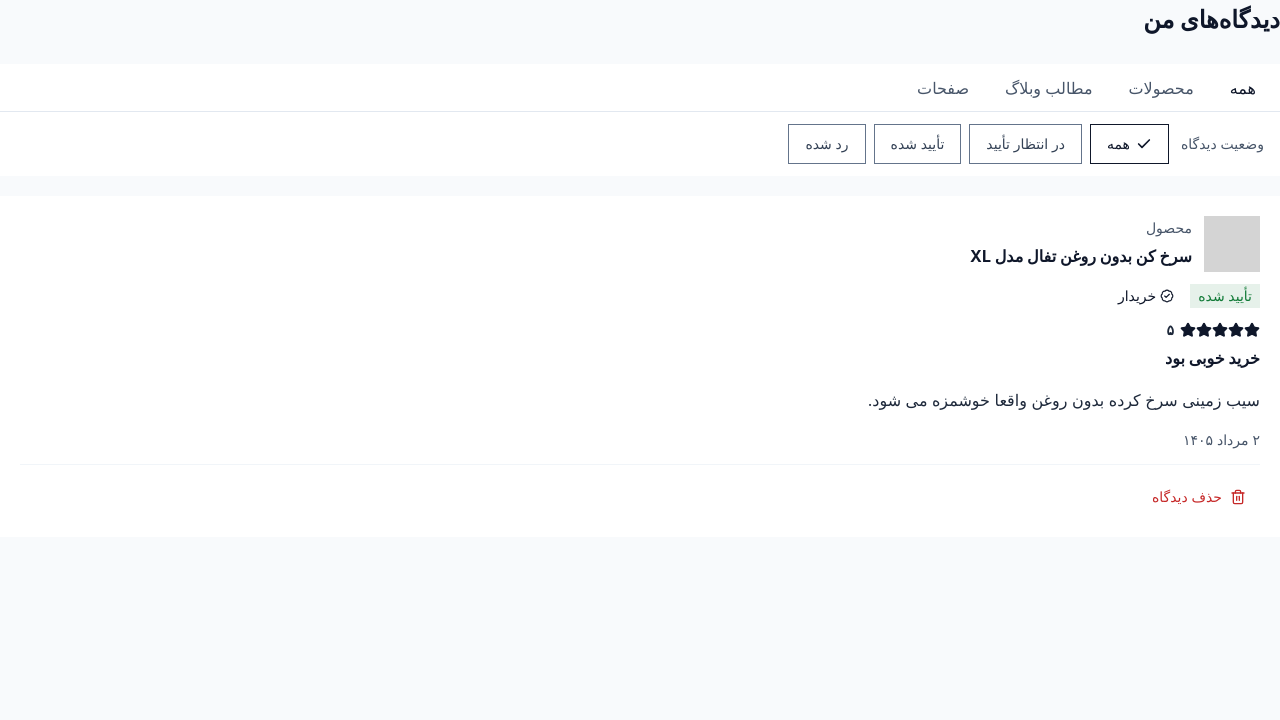
it: CommentsPage › the only row: the page’s heading takes the focus over the empty state
Expected: the element that starts with "محصول" is shown, [0,196,1279,537]
What coordinates should you click on to do the following:
click the button "حذف دیدگاه"
I would click on:
 (1199, 497)
Its box is [1138,477,1260,517].
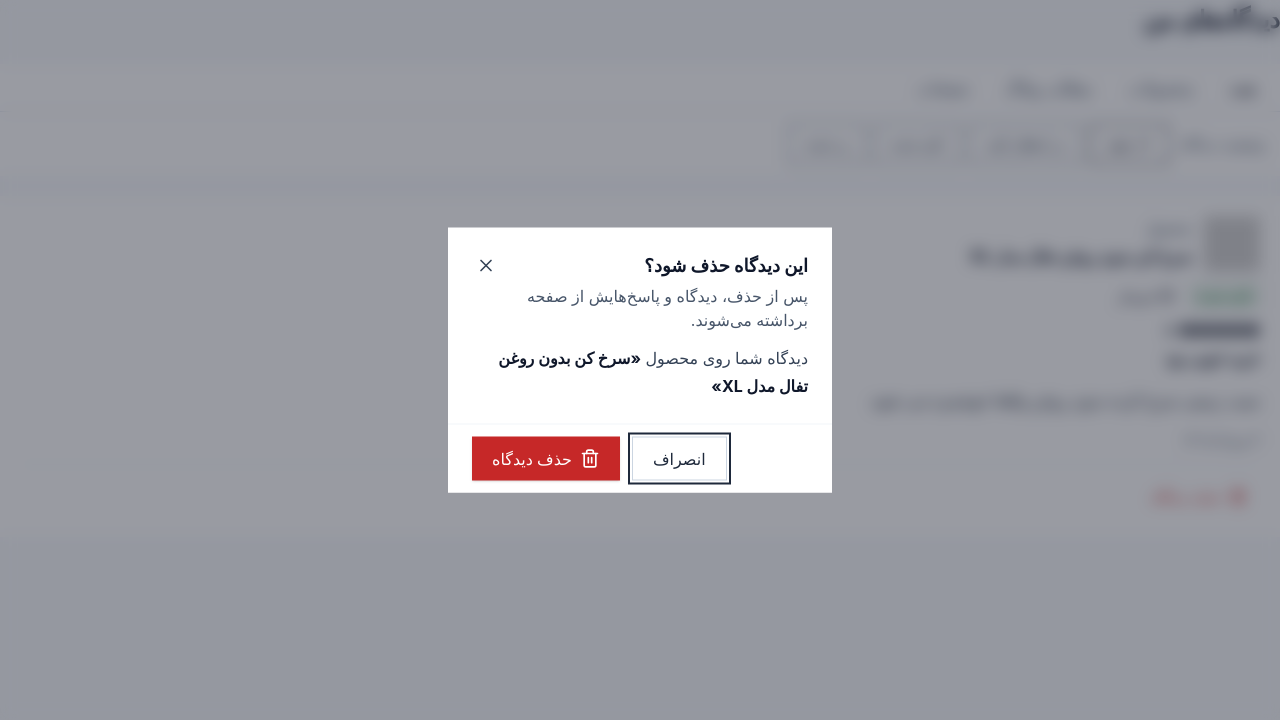
What coordinates should you click on to do the following:
click the button "حذف دیدگاه"
I would click on:
 (546, 458)
Its box is [472,436,620,480].
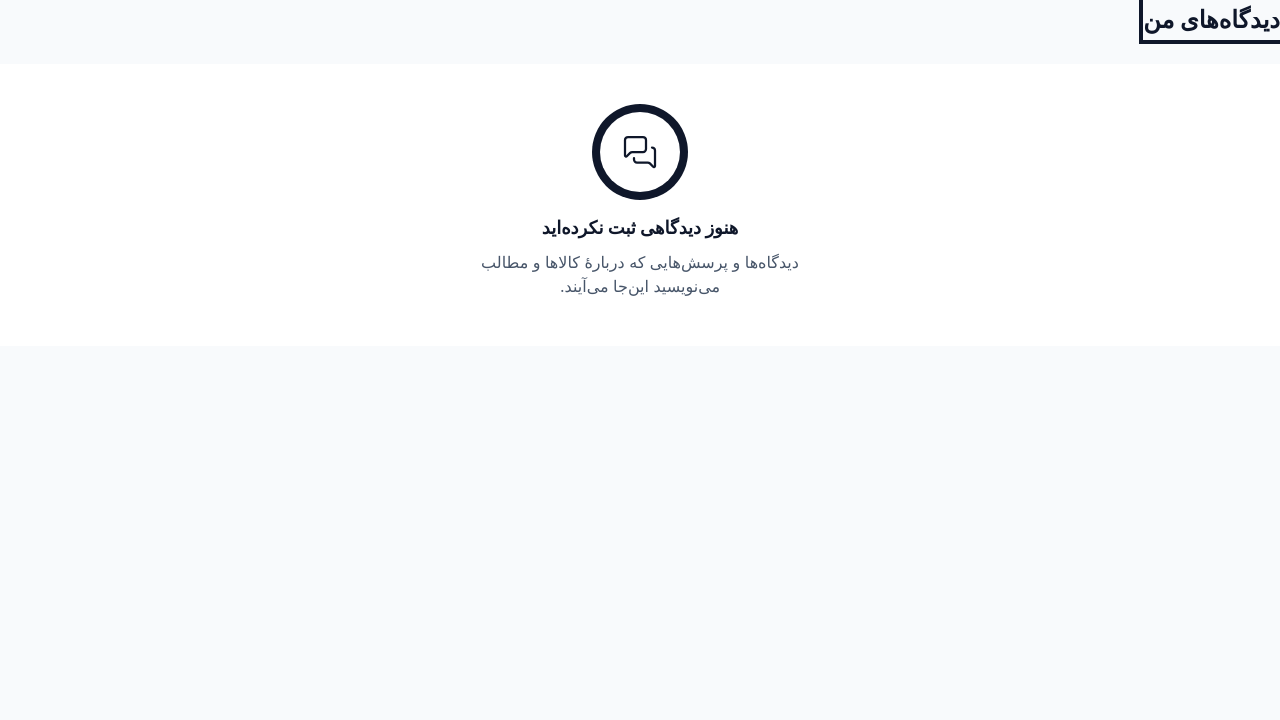
Expected: the heading "هنوز دیدگاهی ثبت نکرده‌اید" is shown, [542,212,738,244]
